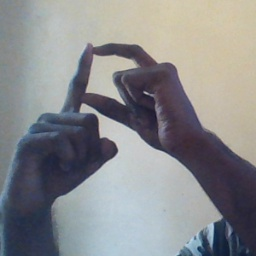D: (47, 37, 166, 154)
